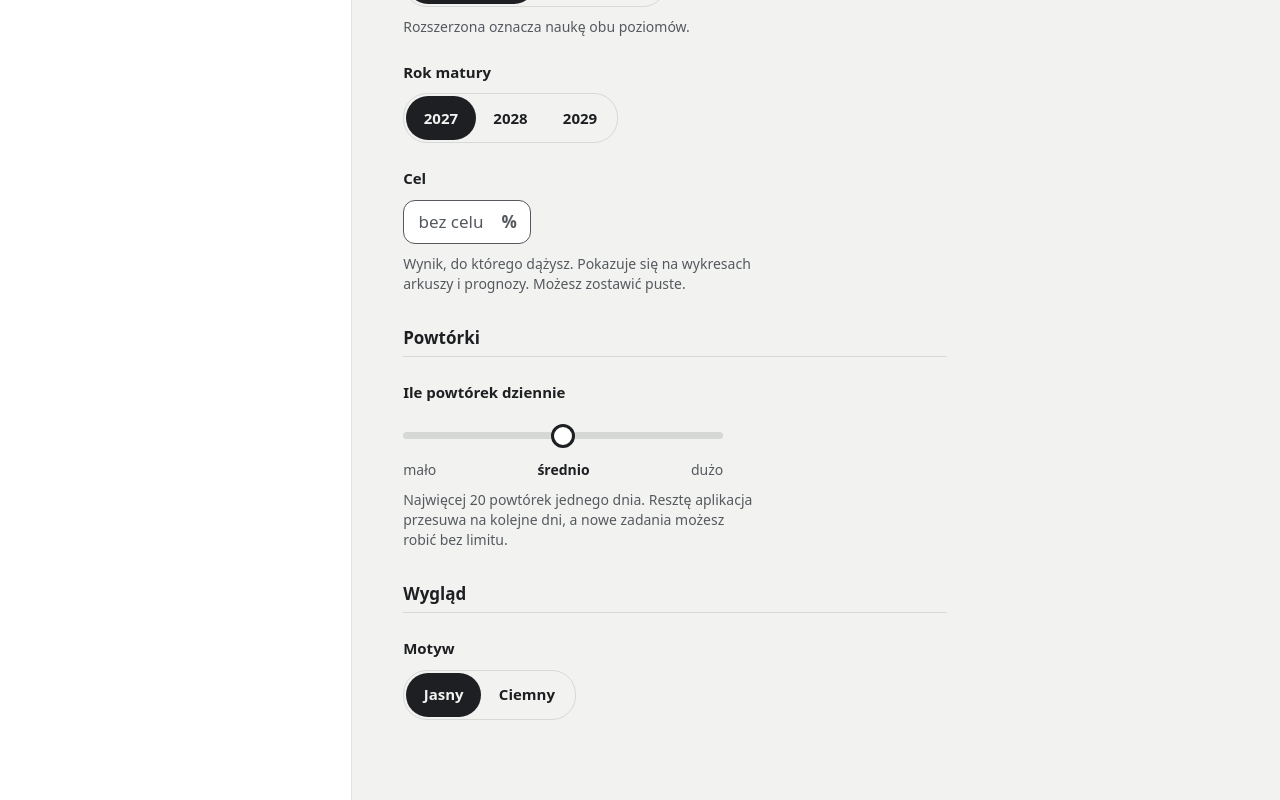
Test: settings › shows the dark background choice only with the dark theme
The width and height of the screenshot is (1280, 800).
(page scrolled)
Expected: the text "Tło ciemnego motywu" is not shown
Click the radio button labelled "Ciemny": (527, 694) top-left (499, 684), bottom-right (555, 704)
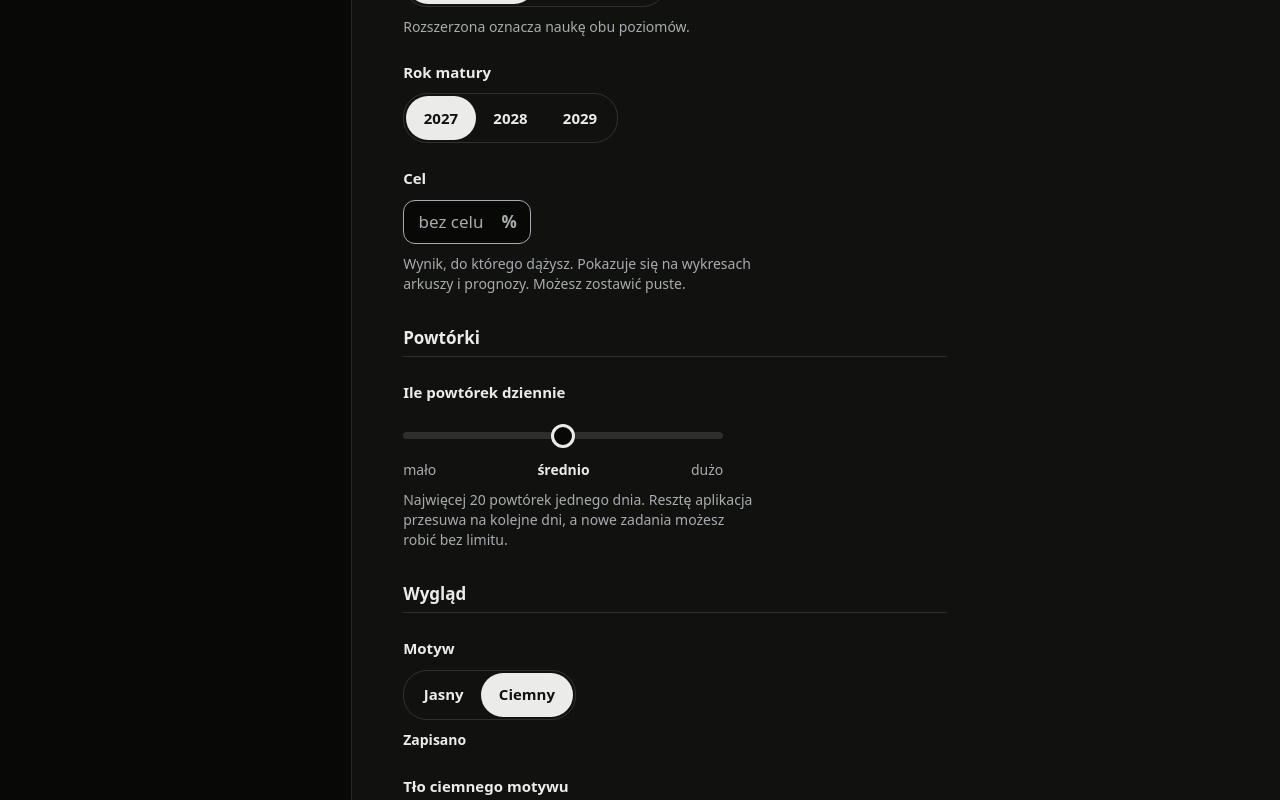
Now the text "Tło ciemnego motywu" is shown, box top-left (403, 775), bottom-right (569, 798)
